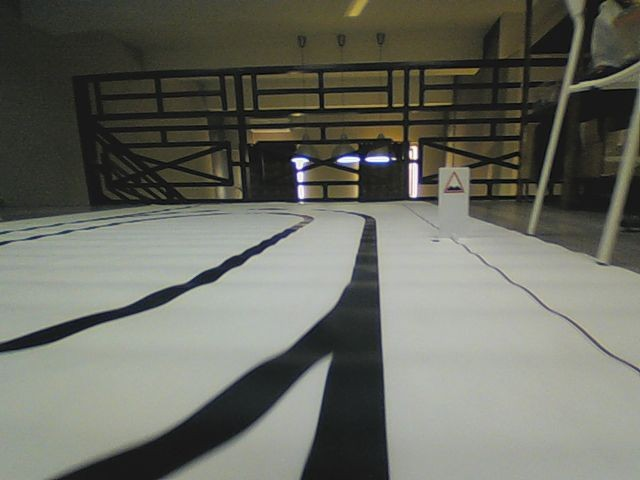Nerov: (443, 171, 464, 194)
